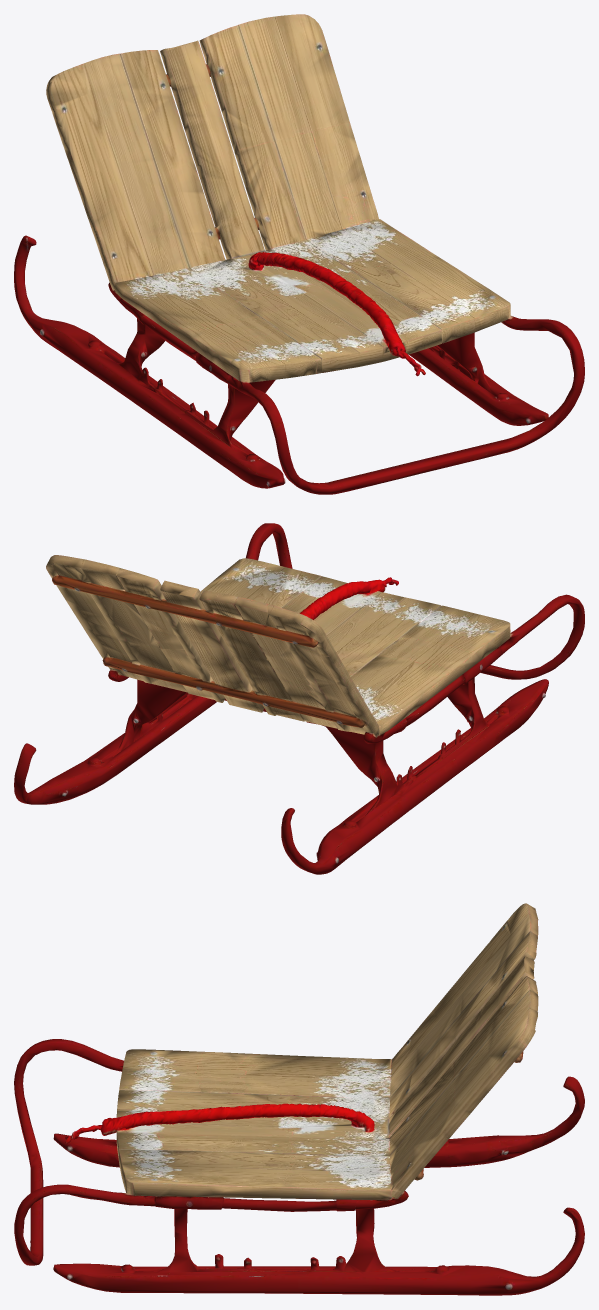
Rendered from toit-luge.glb.
The picture shows the model from 3 angles, top to bottom: view 1: azimuth 30°, elevation 25°; view 2: azimuth 150°, elevation 25°; view 3: azimuth 270°, elevation 25°; orthographic projection.
Bounding box in the file's own units: 1.21 × 0.9828 × 1.9.
Materials: 1 (1 with a texture image).
